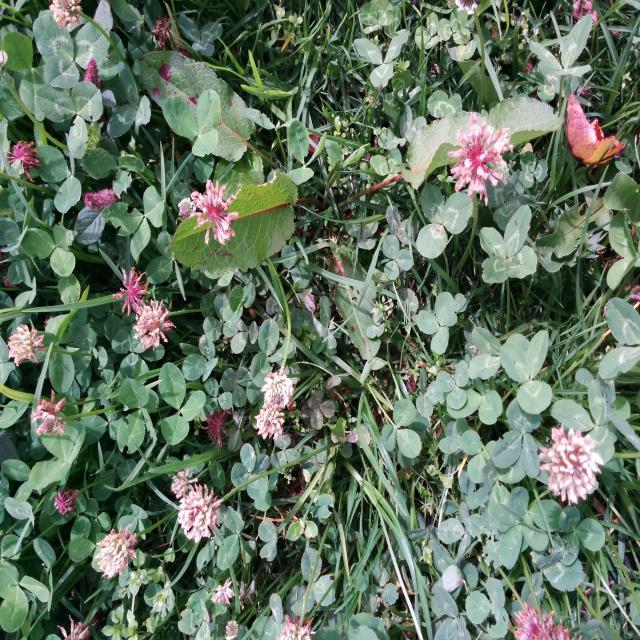Four Leaf Clover: (479, 204, 538, 283)
